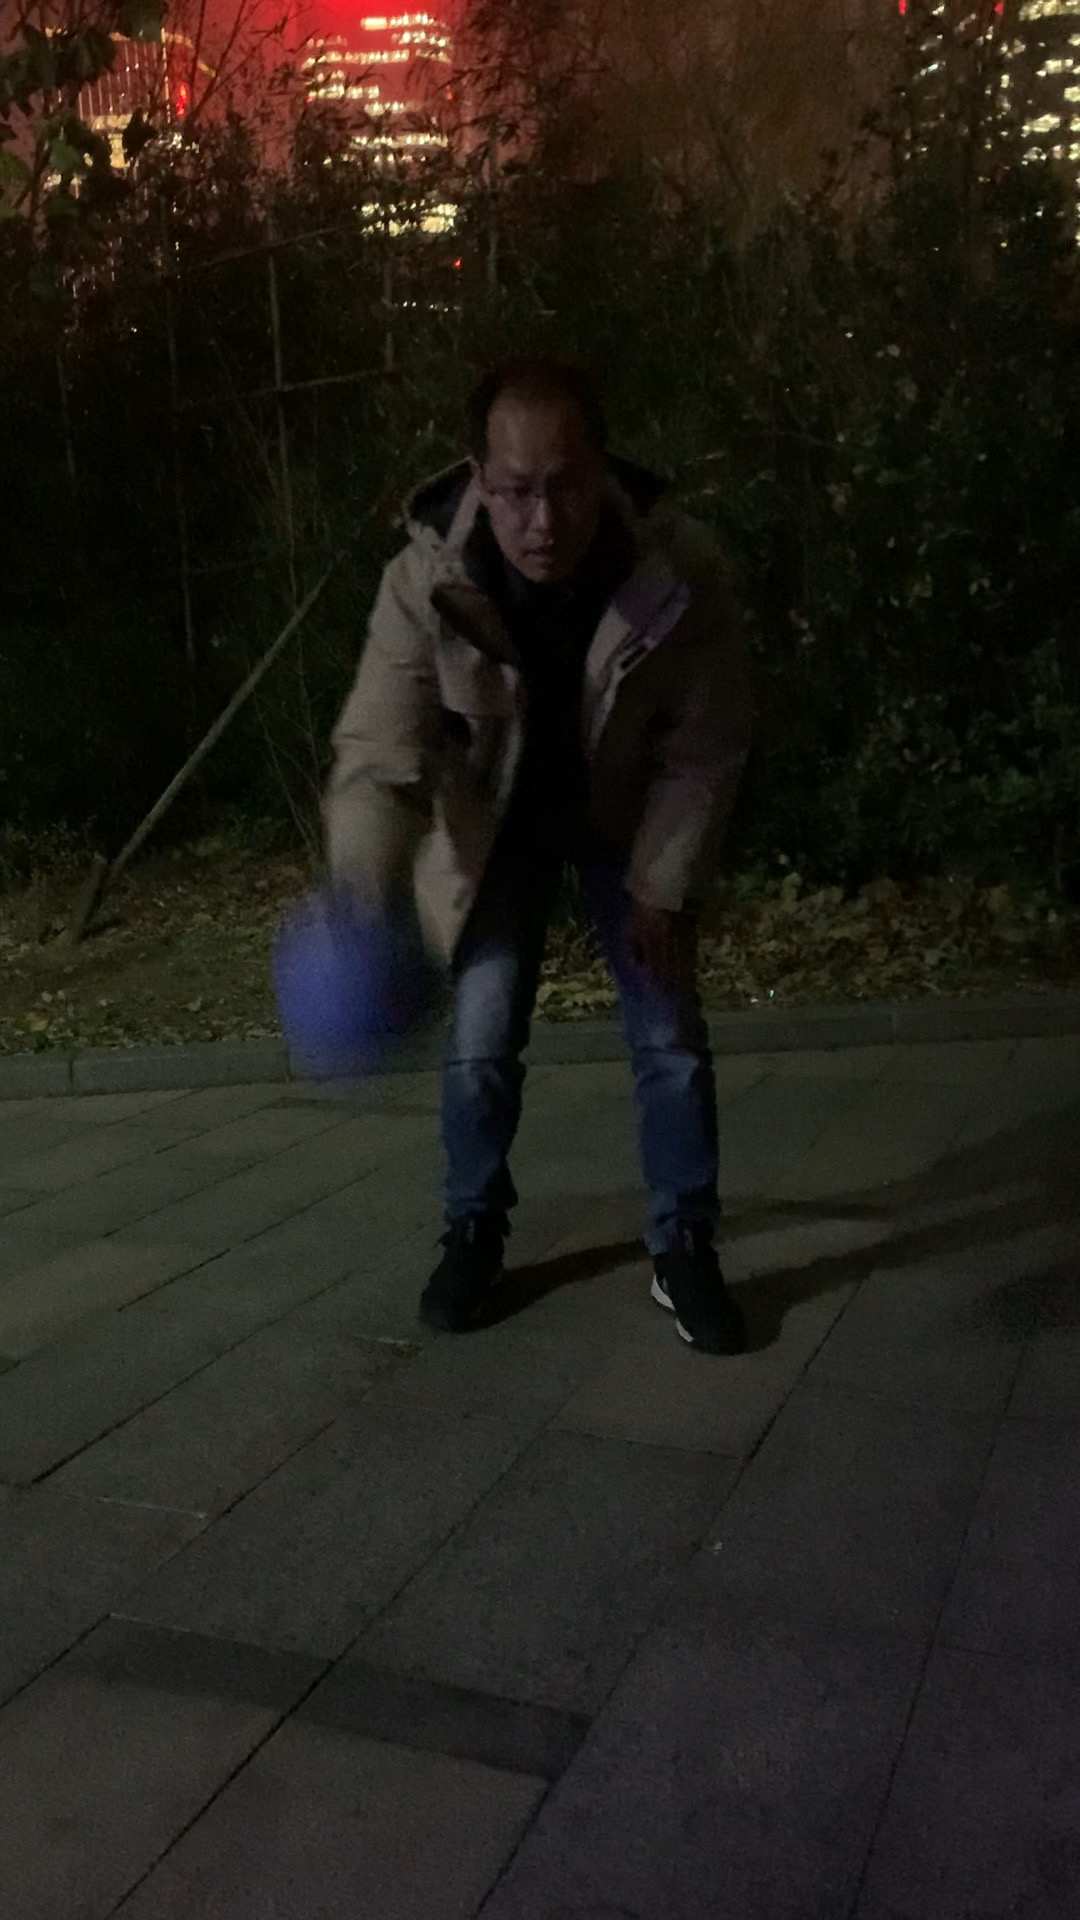ball: (273, 899, 452, 1069)
